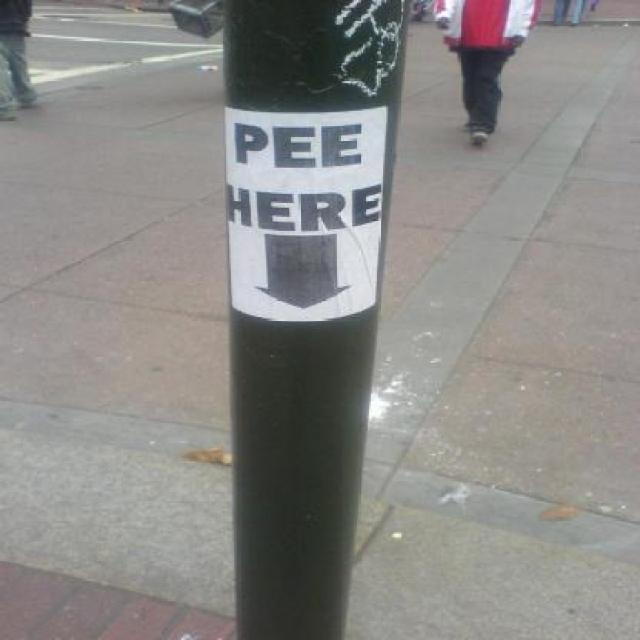obstacle: (440, 1, 535, 138), (0, 0, 47, 118)
